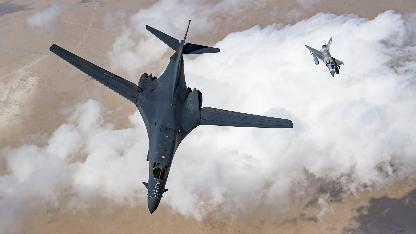AV8B: (49, 20, 293, 214)
Mirage2000: (305, 36, 343, 76)
